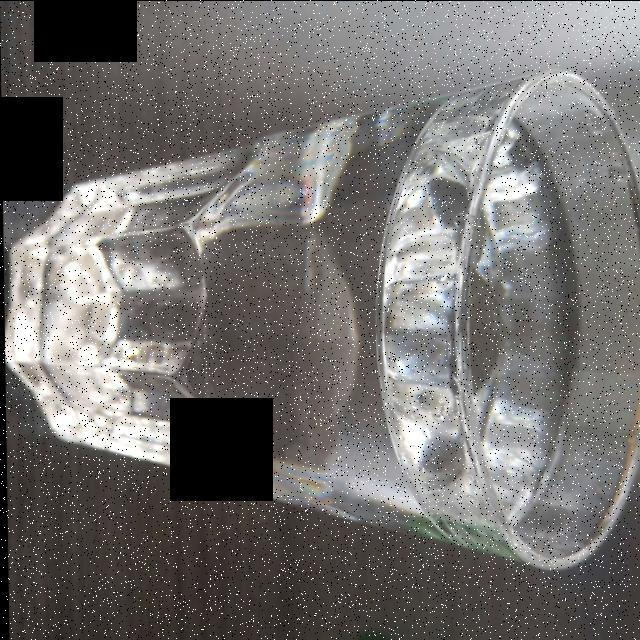water: (73, 119, 568, 545)
